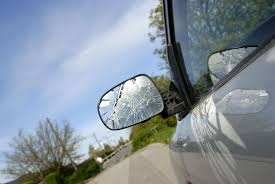Broken-glass: (97, 74, 167, 131)
